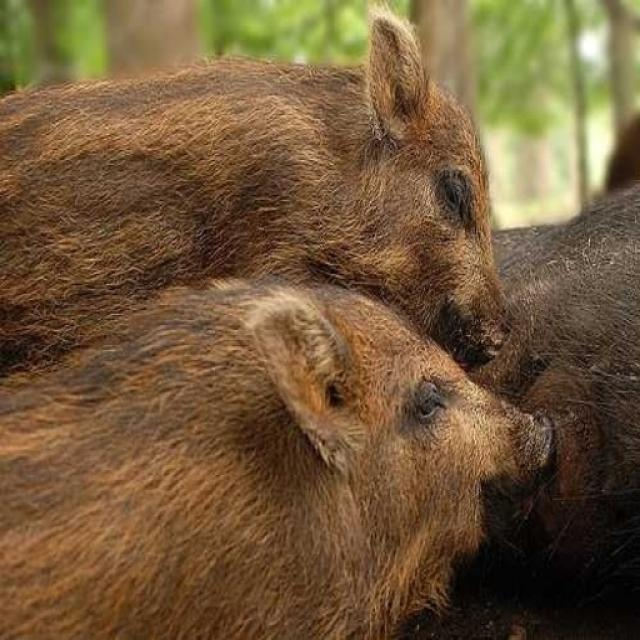pig: (2, 267, 573, 640), (1, 13, 541, 388)
